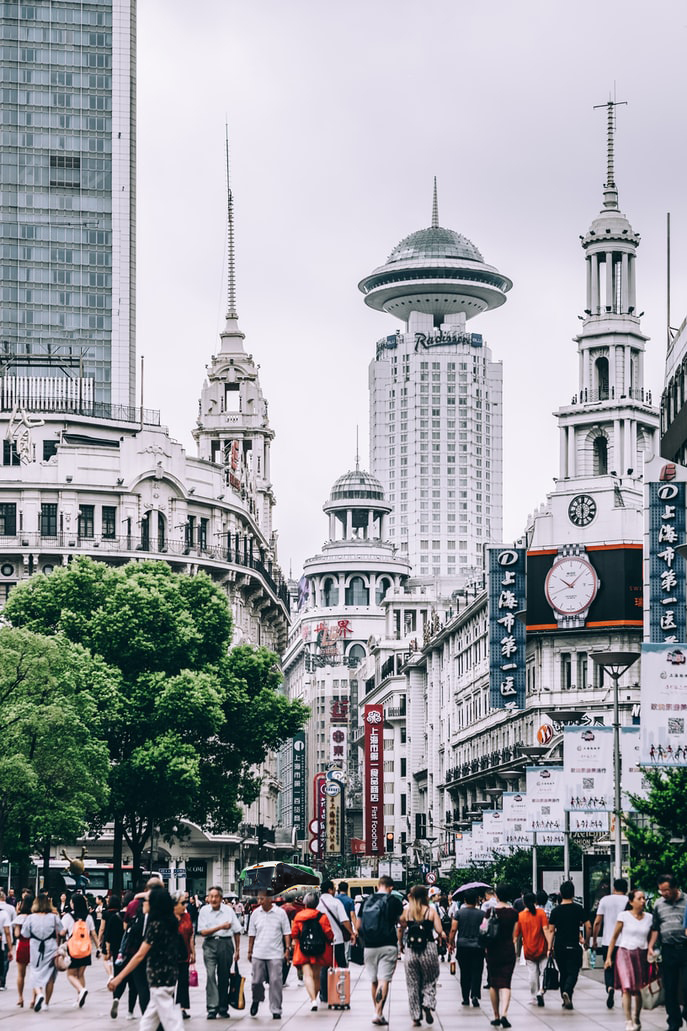copymove: (489, 541, 525, 712)
removal: (346, 364, 360, 393)
spliced: (237, 865, 331, 899)
